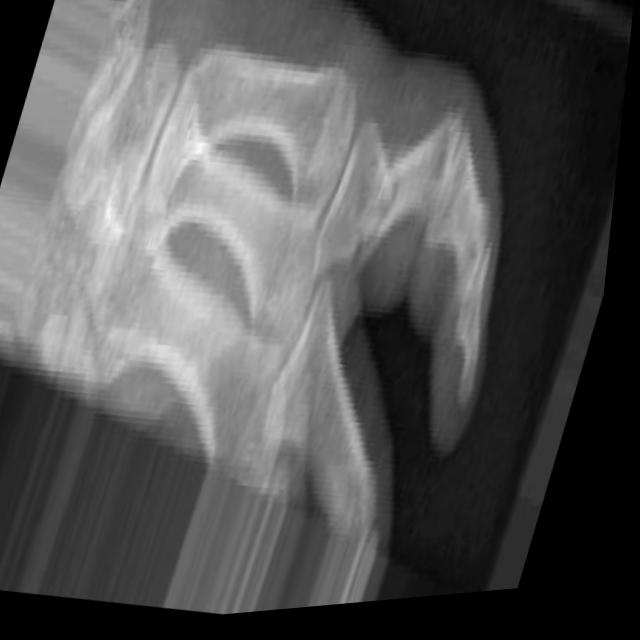fracture: (348, 150, 420, 292)
